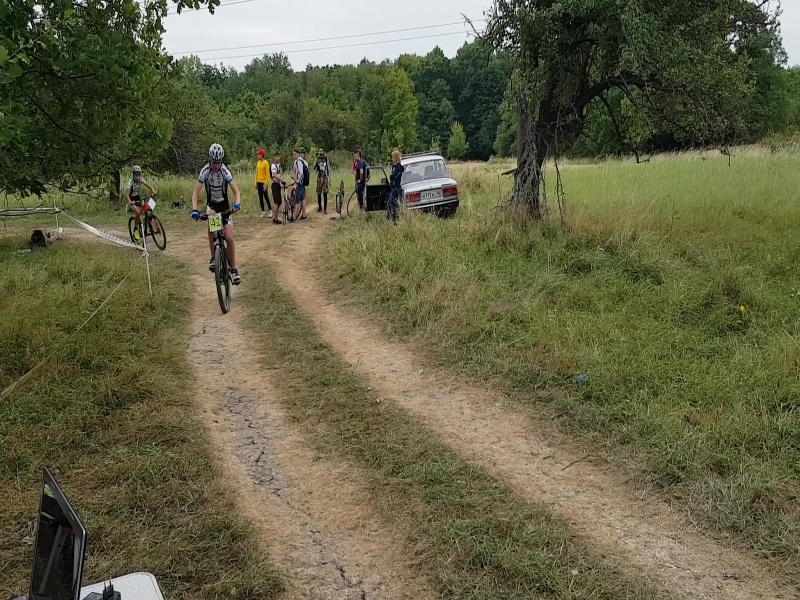number: (208, 212, 223, 232)
